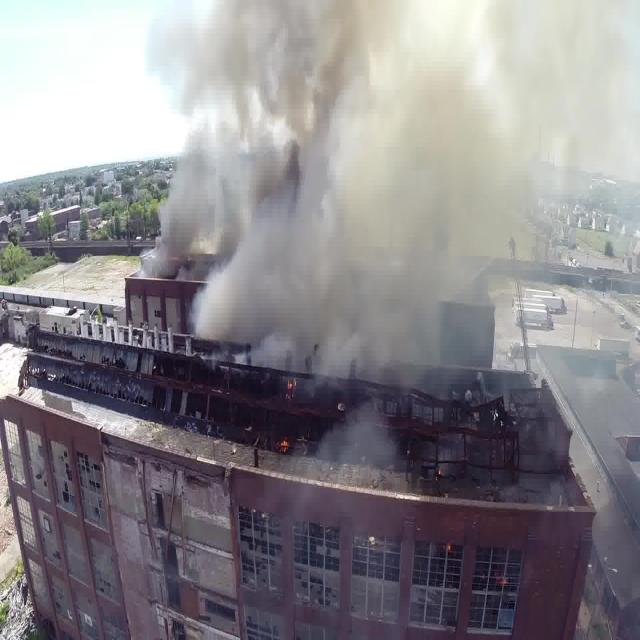smoke: (204, 16, 509, 313)
